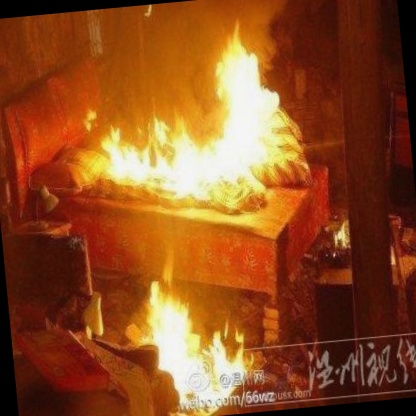fire: (62, 13, 324, 240), (105, 240, 252, 416)
